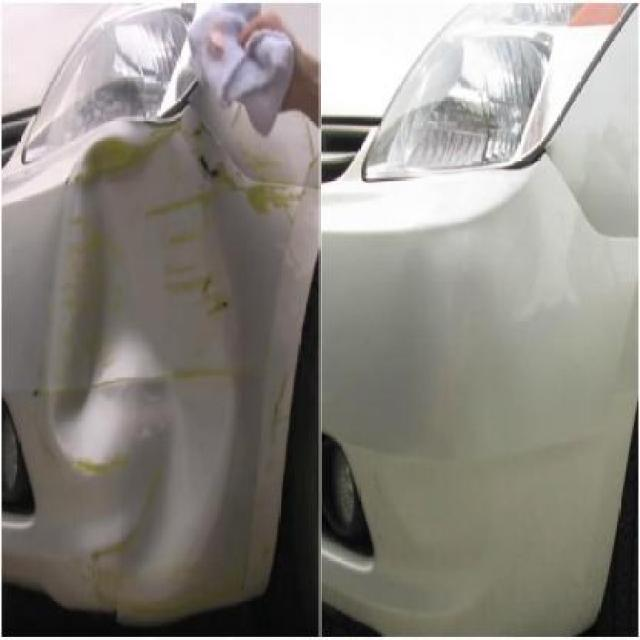dent: (57, 134, 276, 606)
